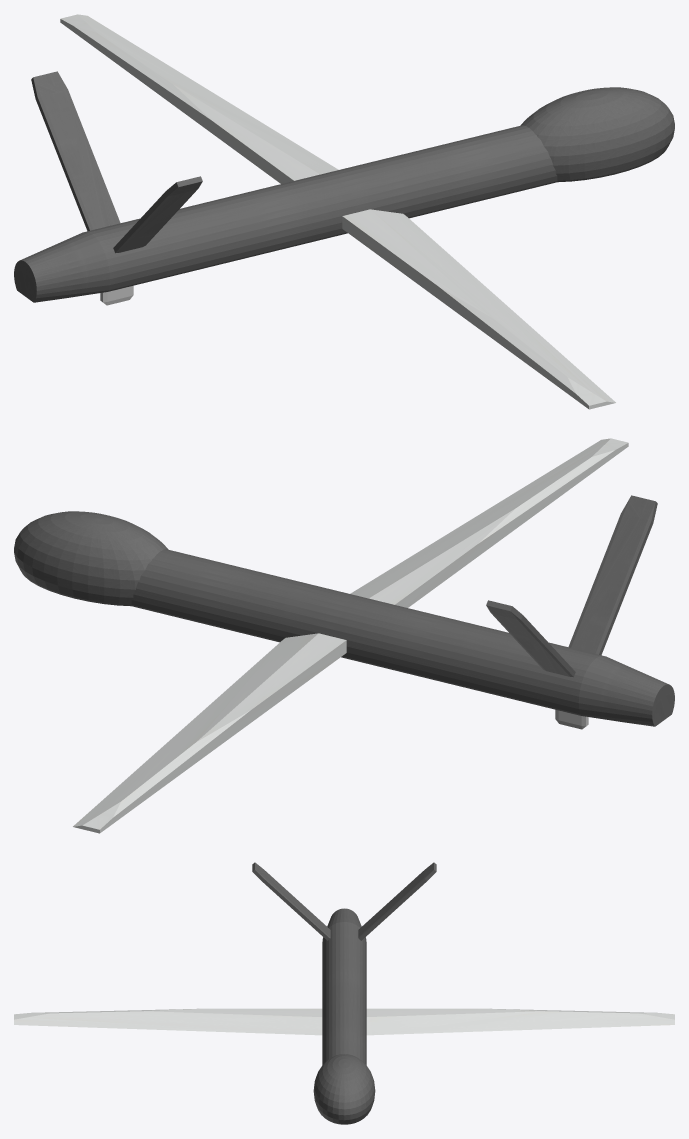
The model's file is UAV.obj.
3 renders of one model, top to bottom at view 1: azimuth 30°, elevation 25°; view 2: azimuth 150°, elevation 25°; view 3: azimuth 270°, elevation 25°, orthographic. The views are drawn at different scales.
Parts seen in each view (by area): view 1: Cylinder.001, Cube.002_Cube.003, Sphere_Sphere.001, Cube.001_Cube.002, Cube.003_Cube.013, Cube_Cube.012; view 2: Cylinder.001, Cube.001_Cube.002, Sphere_Sphere.001, Cube.002_Cube.003, Cube_Cube.012, Cube.003_Cube.013; view 3: Cube.002_Cube.003, Cube.001_Cube.002, Cylinder.001, Sphere_Sphere.001, Cube_Cube.012, Cube.003_Cube.013.
Boxes of the visible parts, x1,y1,x2,y2 form: Cylinder.001: [14, 125, 557, 302]; Cube.002_Cube.003: [342, 209, 615, 409]; Sphere_Sphere.001: [520, 87, 674, 182]; Cube.001_Cube.002: [60, 14, 338, 183]; Cube.003_Cube.013: [31, 71, 120, 231]; Cube_Cube.012: [113, 176, 202, 253]; Cylinder.001: [131, 549, 674, 726]; Cube.001_Cube.002: [73, 633, 346, 833]; Sphere_Sphere.001: [14, 511, 168, 606]; Cube.002_Cube.003: [350, 438, 628, 607]; Cube_Cube.012: [568, 495, 657, 655]; Cube.003_Cube.013: [486, 600, 575, 677]; Cube.002_Cube.003: [14, 1008, 322, 1035]; Cube.001_Cube.002: [366, 1008, 674, 1035]; Cylinder.001: [322, 908, 366, 1064]; Sphere_Sphere.001: [313, 1054, 375, 1124]; Cube_Cube.012: [252, 862, 330, 940]; Cube.003_Cube.013: [358, 862, 436, 940].
Bounding box in the file's own units: 5.29 × 1.37 × 7.5.
7 materials, 6 textured.
